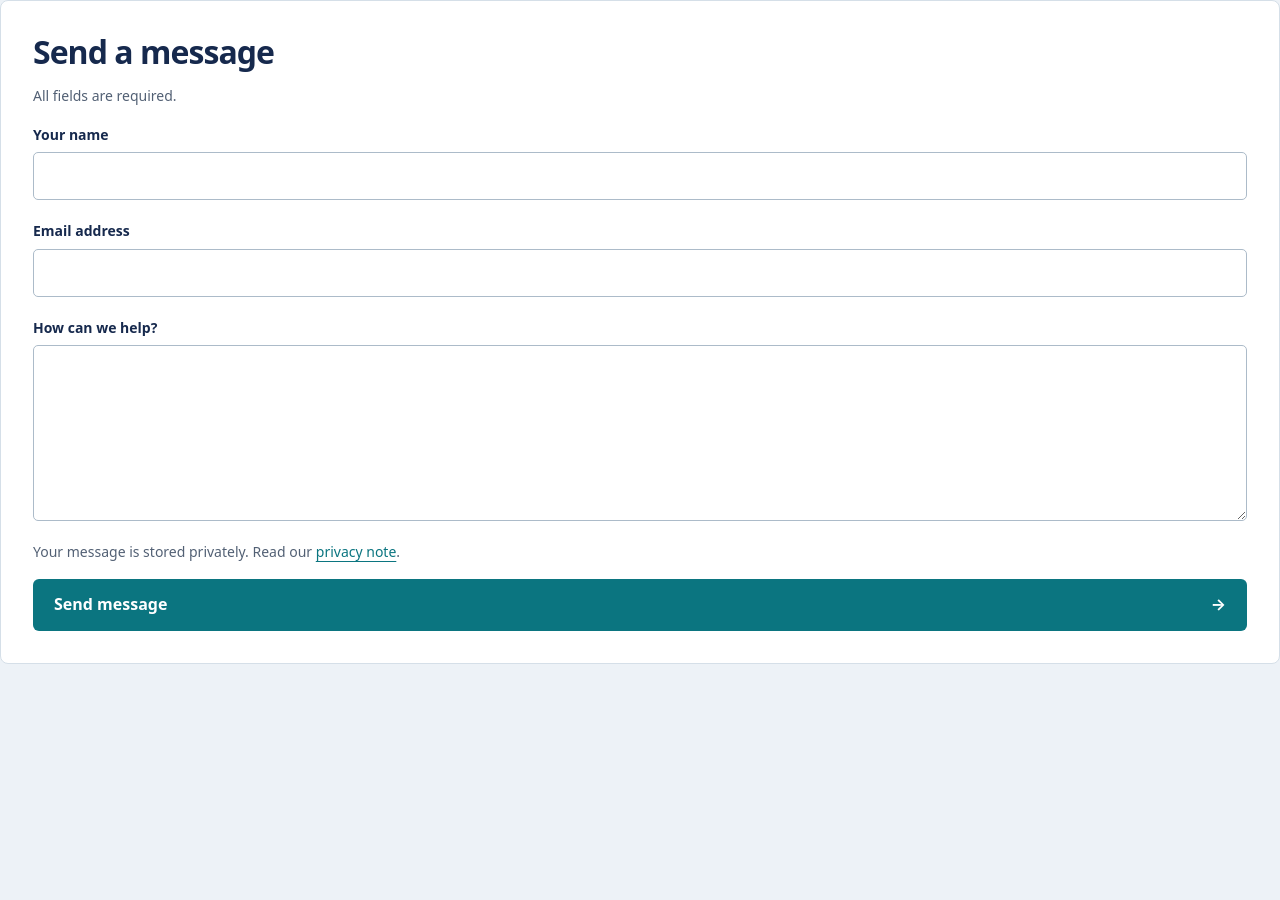
Test: Contact submission › ties server validation errors to their fields
Step 1. Type "Example Visitor" into the field labelled "Your name" → x=640, y=176, box [33,152,1247,200]
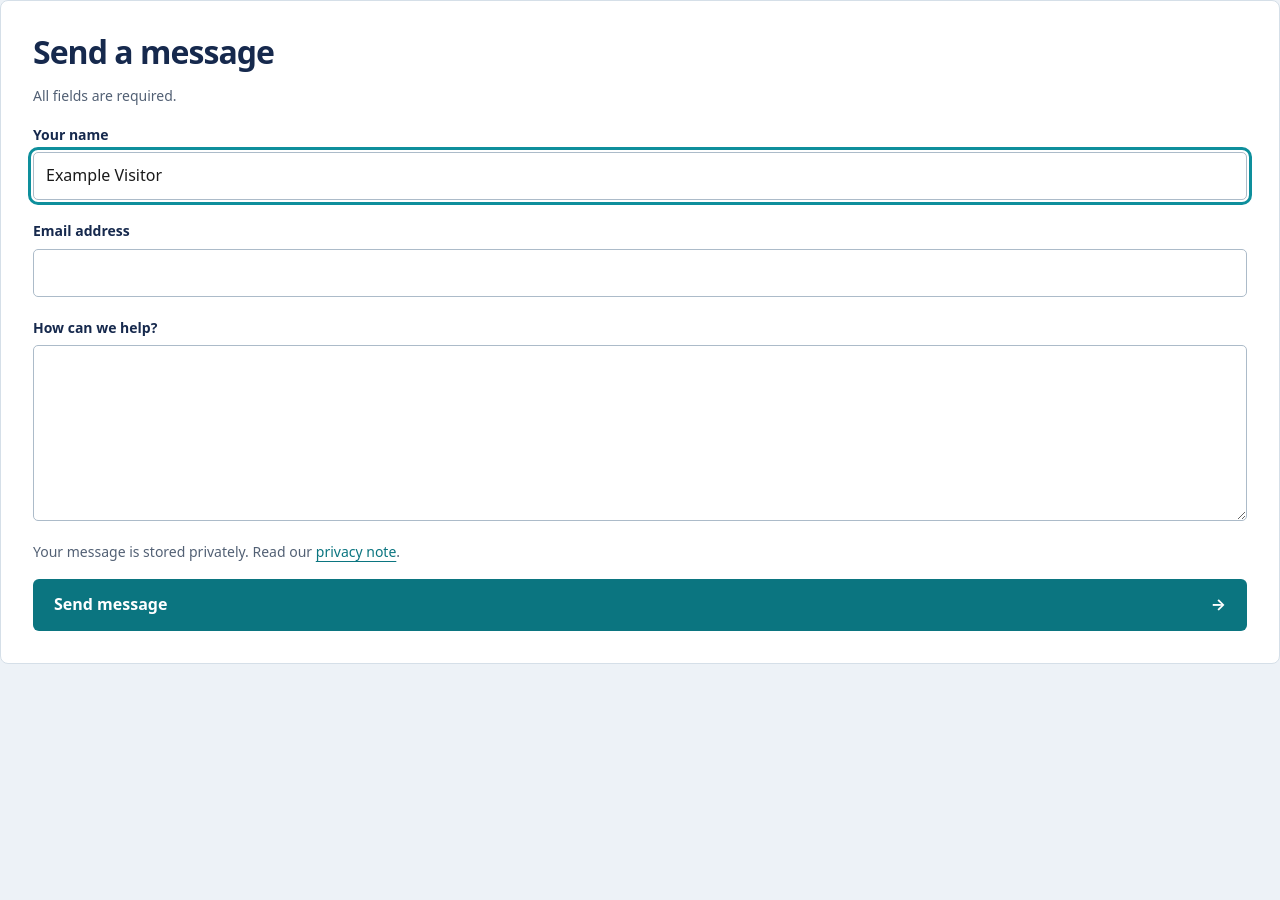
Step 2. Type "visitor@example.test" into the field labelled "Email address" → x=640, y=273, box [33,249,1247,297]
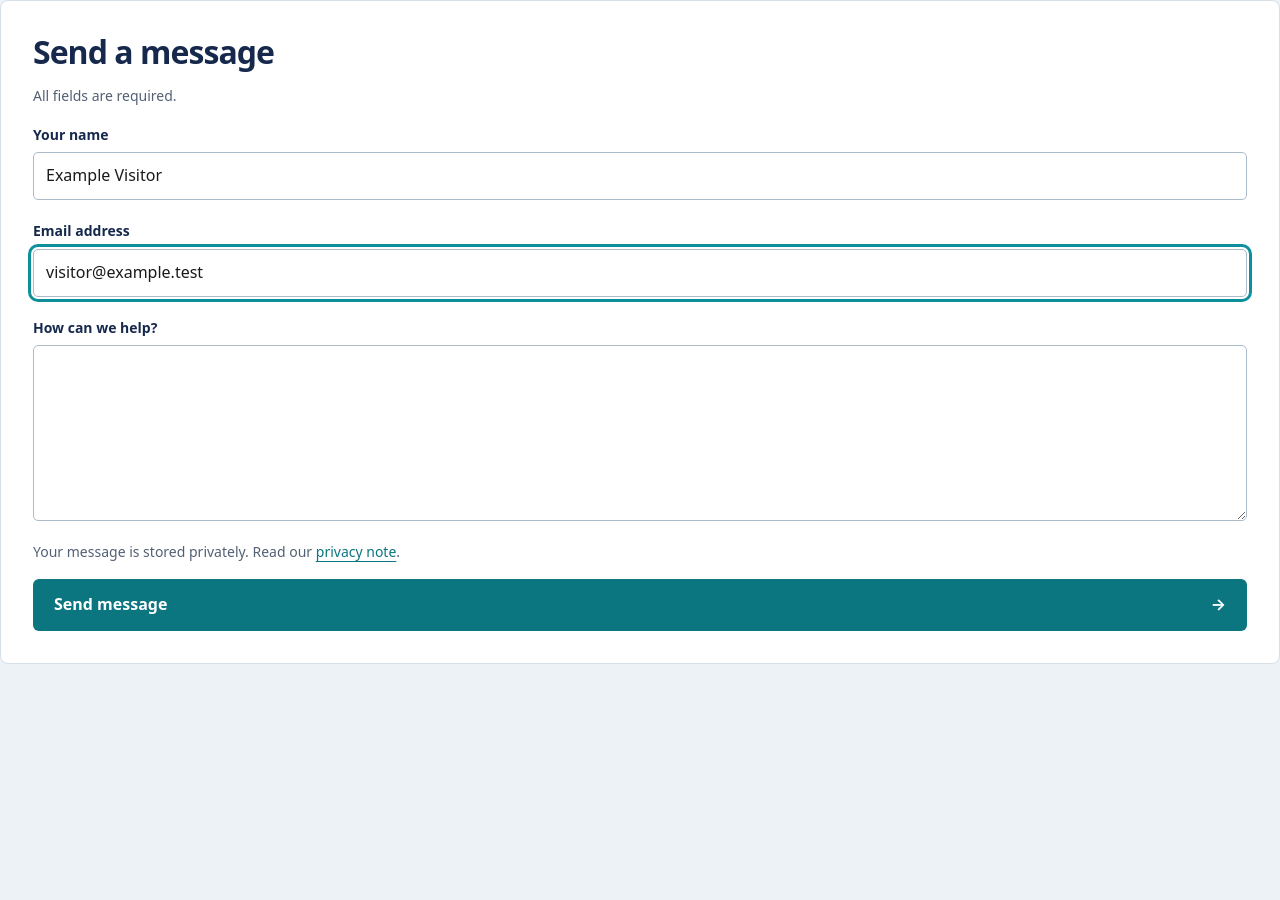
Step 3. Type "A fictional message about community care." into the text box labelled "How can we help?" → x=640, y=433, box [33,345,1247,521]
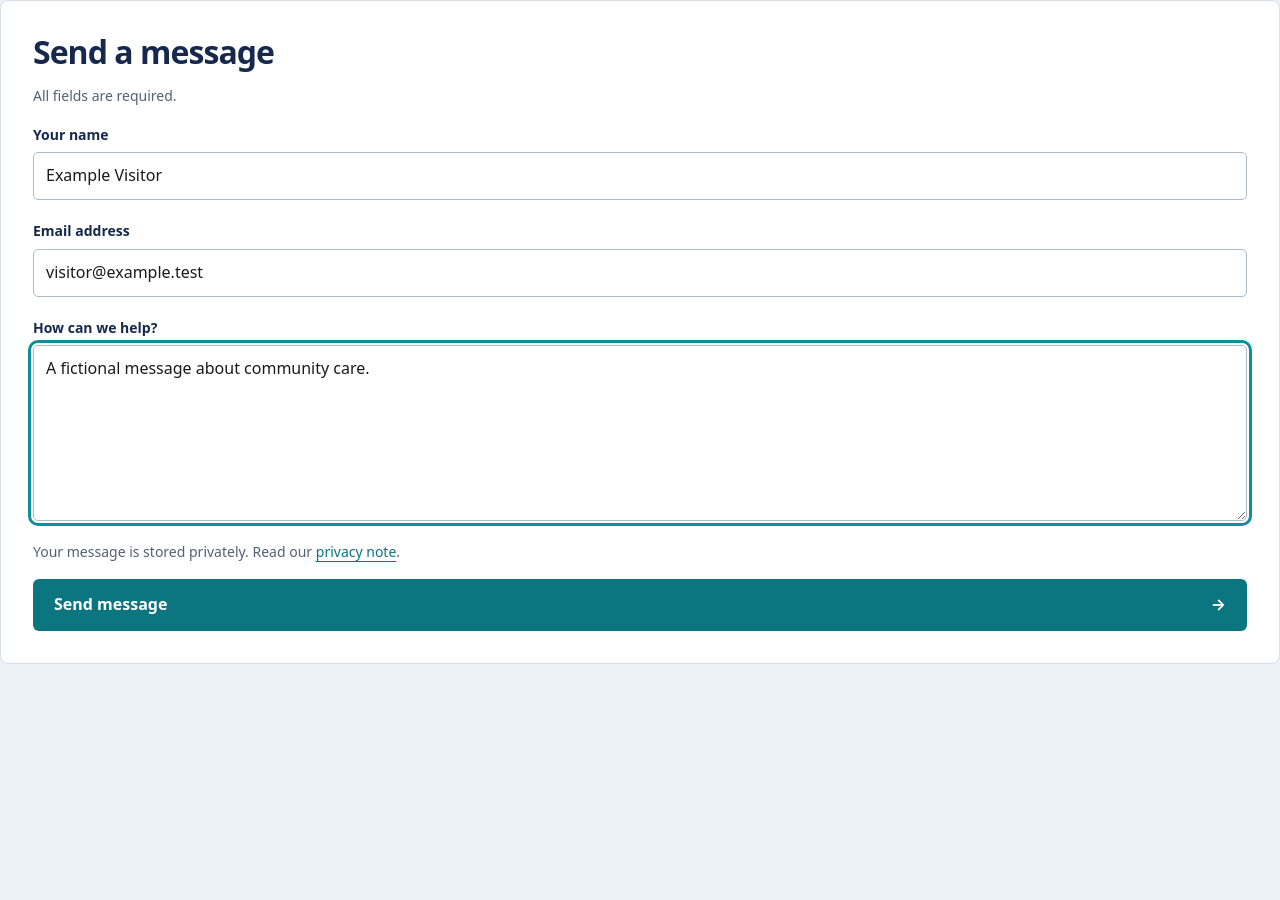
Step 4. Click the button "Send message →" → x=111, y=604, box [33,579,1247,630]
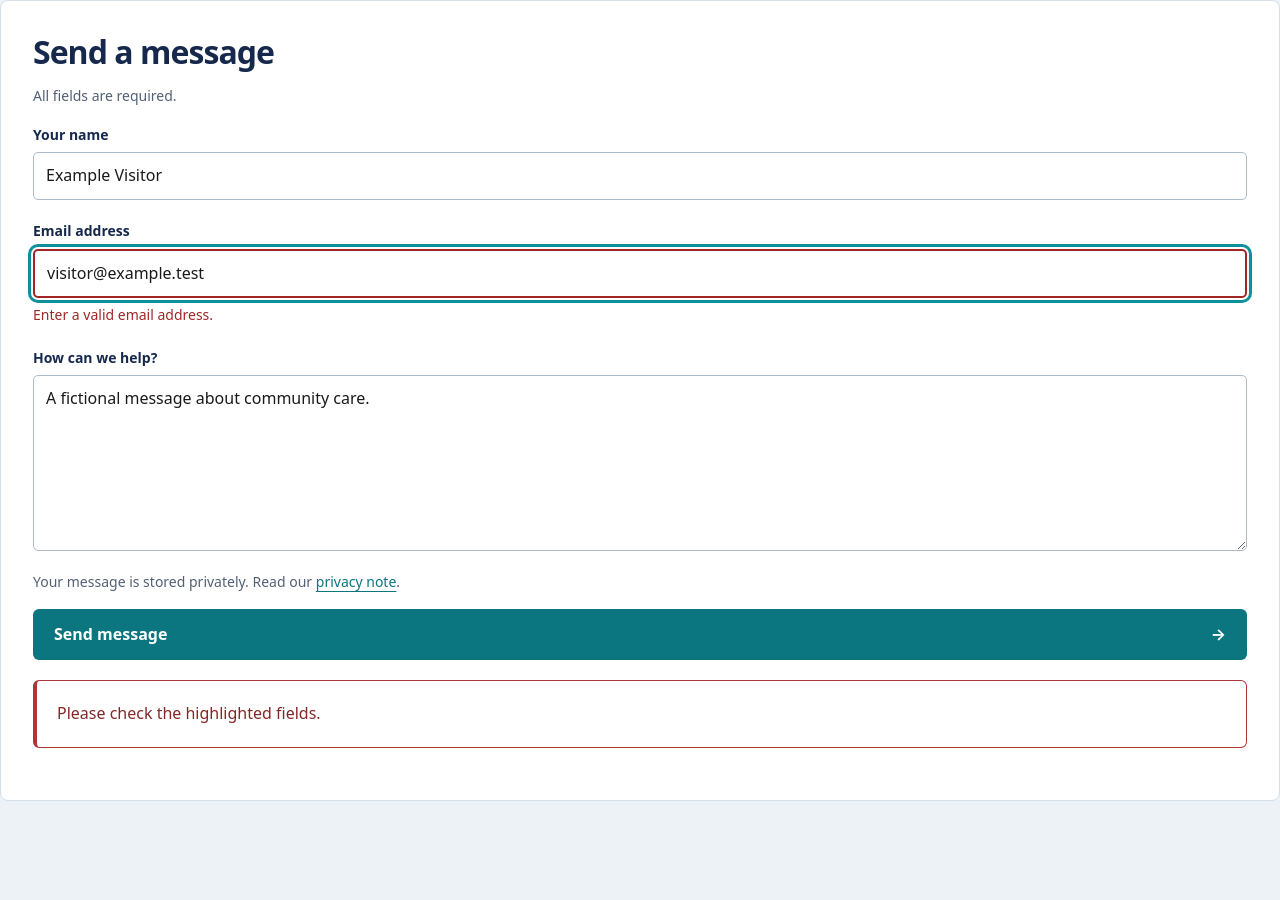
Result: the message shows "Please check" at [57,702,321,724]
